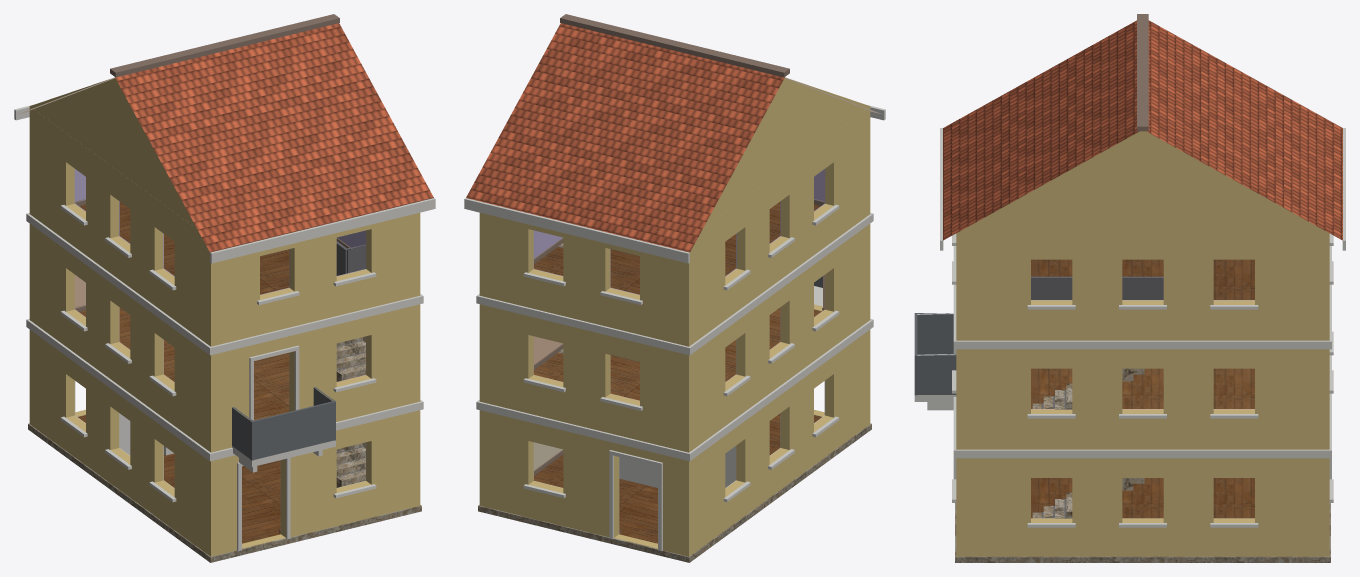
Rendered from cove-house-yellow.windows-v1.lod0.glb.
The picture shows the model from 3 angles, left to right: view 1: azimuth 30°, elevation 25°; view 2: azimuth 150°, elevation 25°; view 3: azimuth 270°, elevation 25°; orthographic projection. The views are drawn at different scales.
Parts seen in each view (by area): view 1: cove-house-yellow; view 2: cove-house-yellow; view 3: cove-house-yellow.
Boxes of the visible parts, left/top/right/bottom form: cove-house-yellow: left=14, top=14, right=435, bottom=562; cove-house-yellow: left=464, top=14, right=885, bottom=562; cove-house-yellow: left=914, top=14, right=1345, bottom=562.
Size of the model in its own units: 6.42 by 11.7 by 10.41.
Materials: 4 (3 with a texture image).
